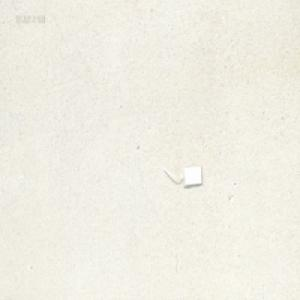LuggageTag: (162, 162, 202, 188)
